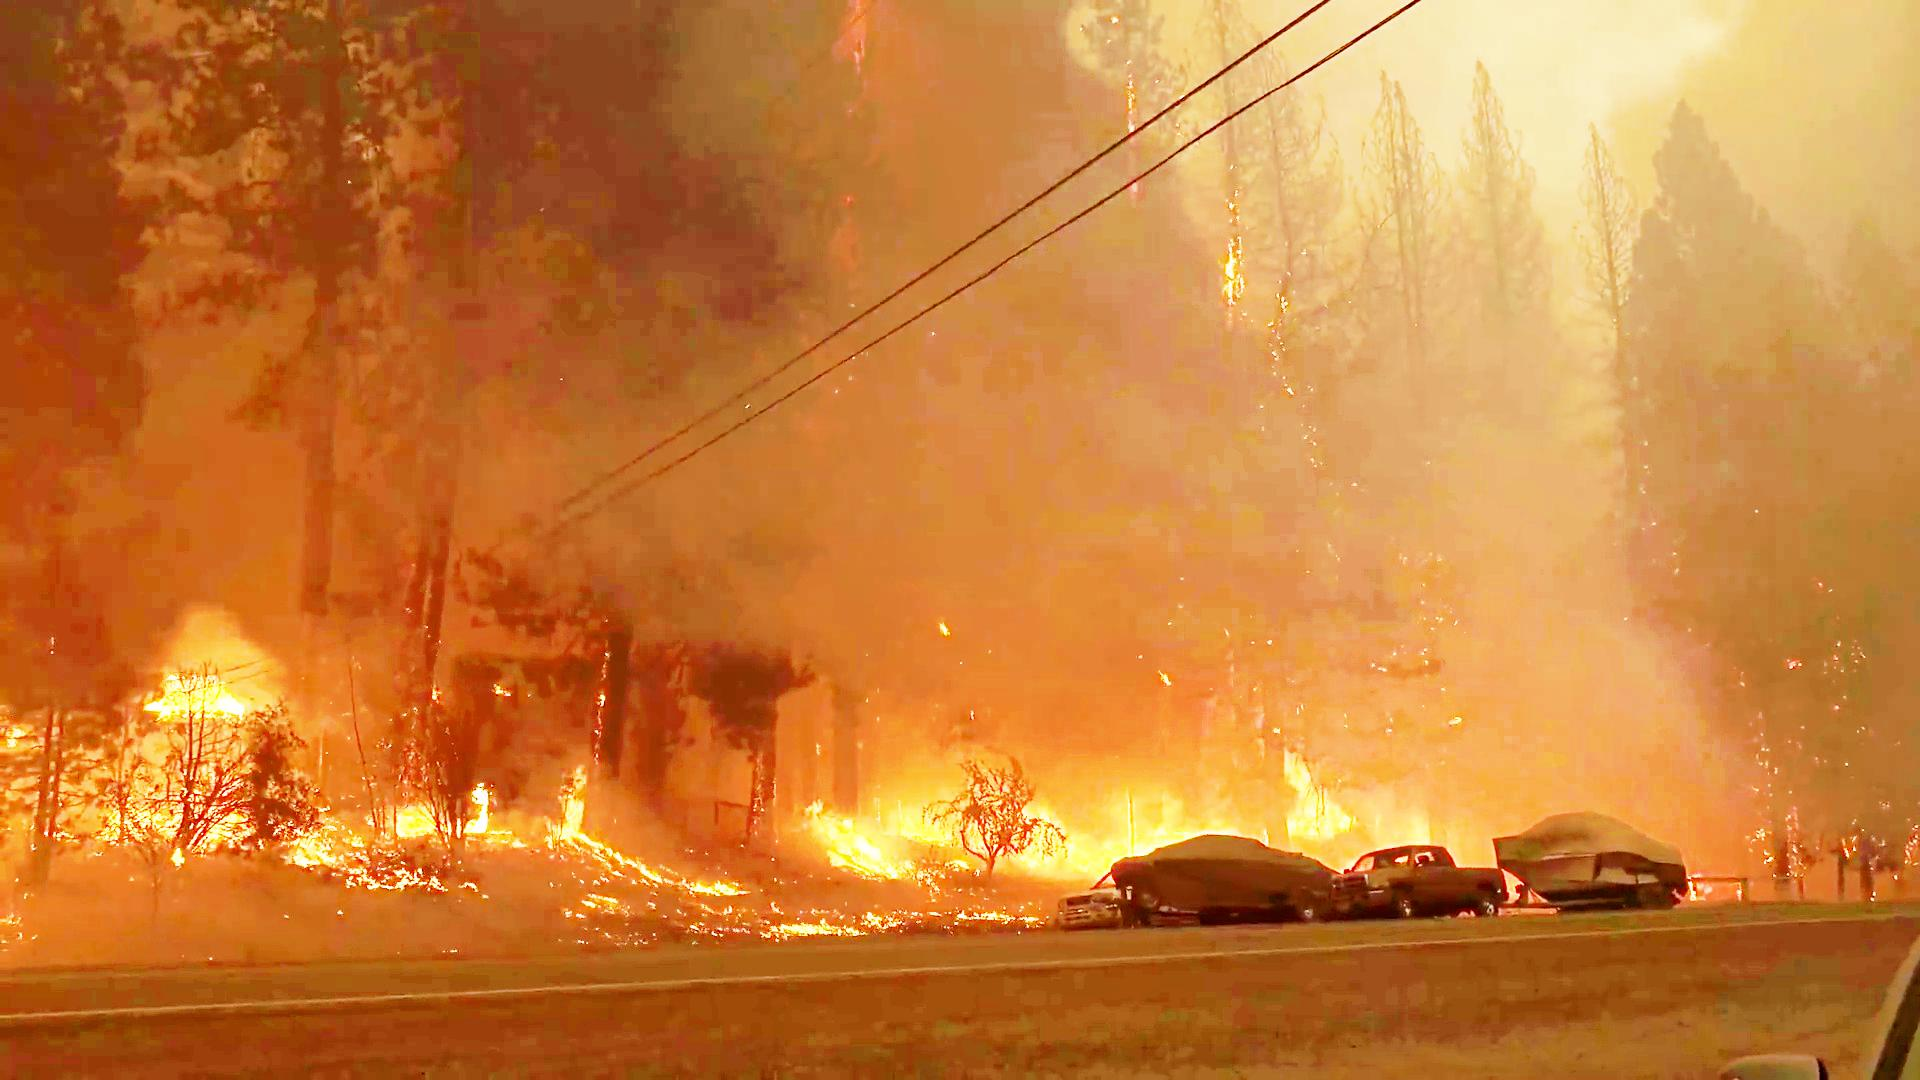fire: (1035, 811, 1178, 886), (815, 793, 887, 878)
